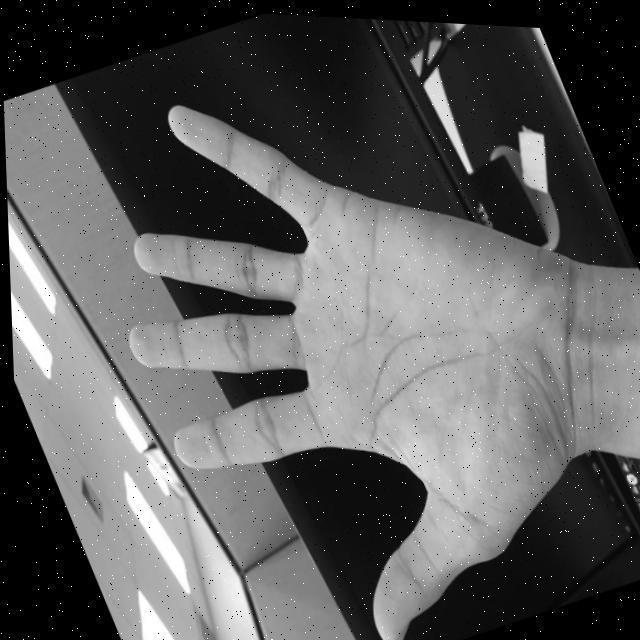no-gloves: (35, 1, 640, 640)
